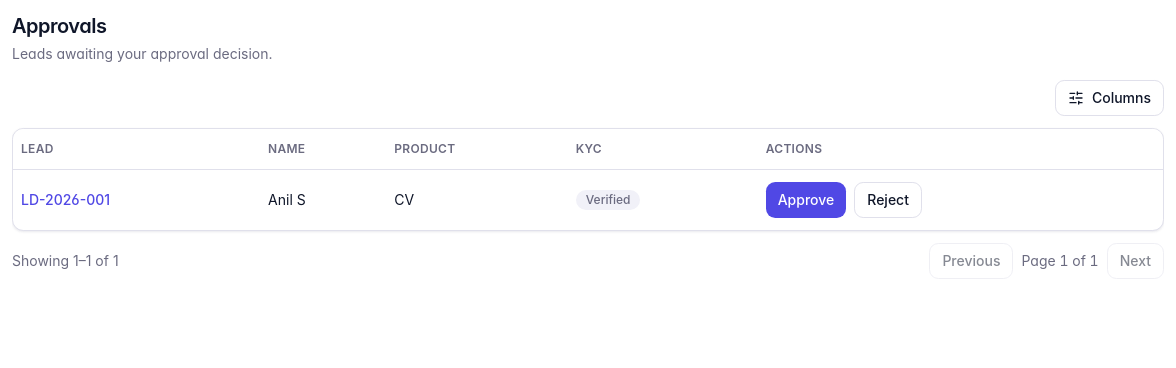
Test: ApprovalsPage › AP-06: reject validation shows alert when reason is too short
Step 1. Click the button with aria-label "reject lead LD-2026-001" → (888, 200), box x1=854 y1=182 x2=922 y2=218
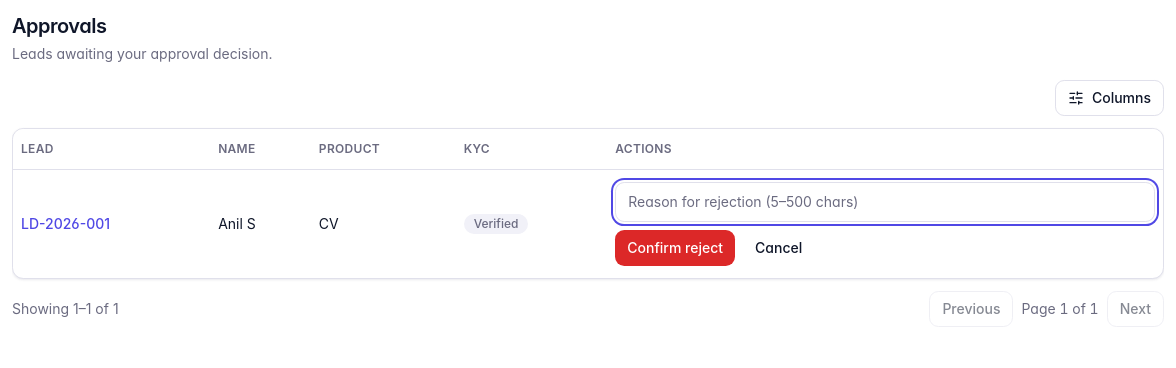
Step 2. Type "abc" into the field with placeholder "Reason for rejection (5–500 chars)" → (885, 202), box x1=615 y1=182 x2=1155 y2=222
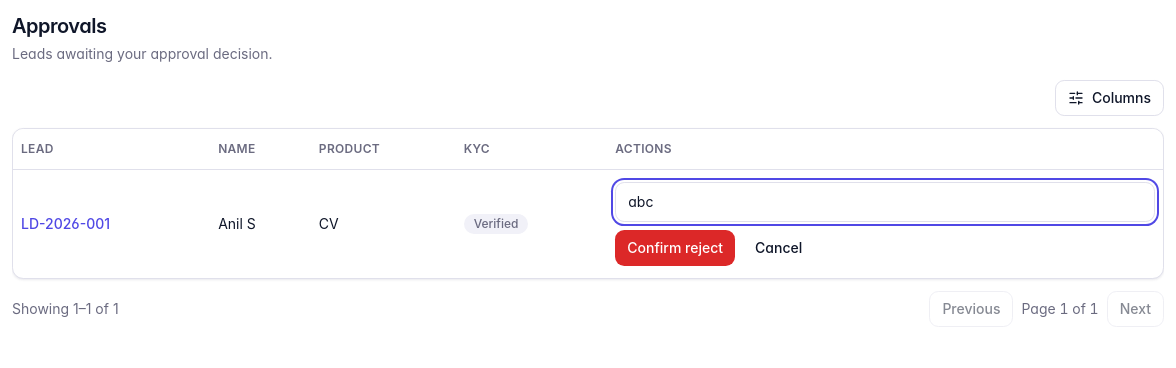
Step 3. Click the button with aria-label "confirm rejection" → (675, 248), box x1=615 y1=230 x2=735 y2=266
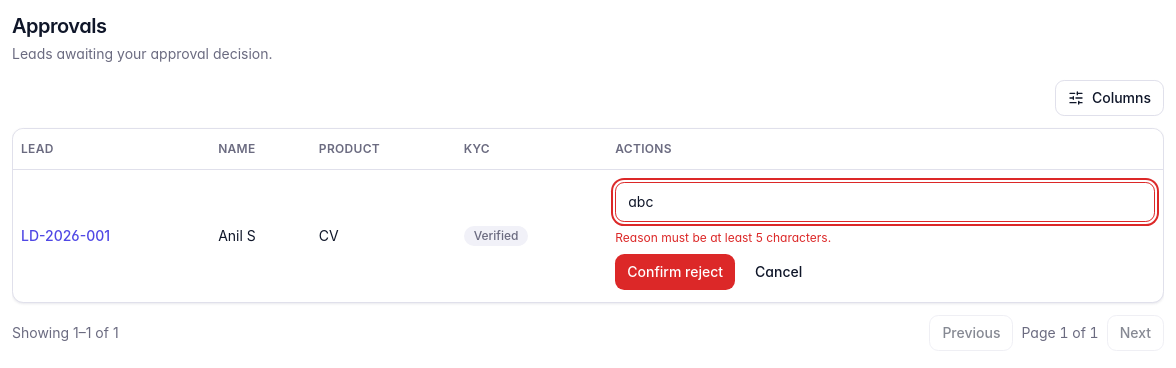
Expected: the message shows "5 characters", x1=615 y1=230 x2=831 y2=244
